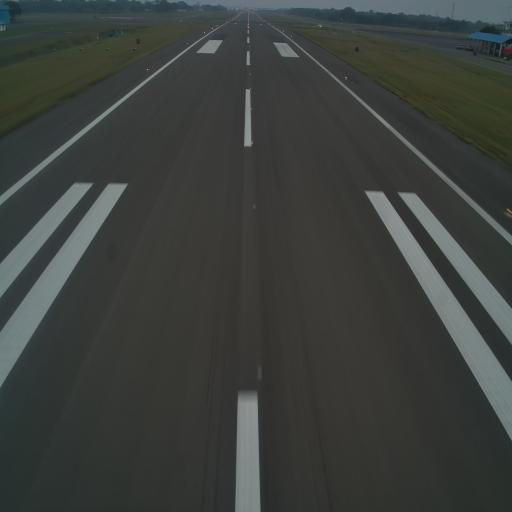off: (254, 360, 266, 385), (250, 196, 258, 214), (306, 47, 310, 52)
on: (505, 202, 512, 222), (344, 74, 347, 81), (145, 67, 150, 71), (185, 41, 189, 46), (251, 140, 254, 146), (249, 106, 252, 112), (249, 86, 253, 90), (249, 72, 252, 76)
